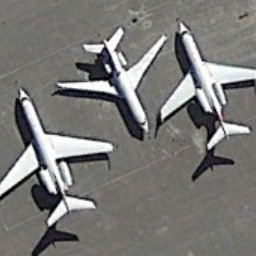Airplane: (1, 81, 121, 228), (55, 23, 169, 138), (160, 13, 256, 146)
